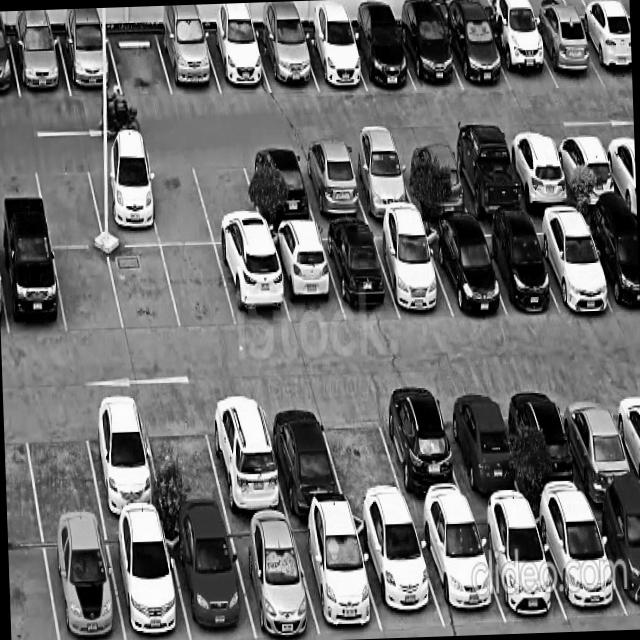car: (530, 502, 629, 627), (289, 514, 383, 640), (374, 391, 469, 512), (226, 519, 320, 640), (471, 508, 567, 623), (164, 519, 255, 640), (412, 510, 506, 627), (436, 388, 526, 508), (352, 514, 445, 630), (202, 394, 288, 517), (104, 521, 190, 640), (505, 386, 589, 505), (260, 398, 346, 514), (555, 385, 640, 501), (81, 401, 163, 520), (41, 523, 124, 640), (528, 213, 614, 311), (422, 223, 507, 318), (473, 221, 558, 315), (266, 227, 344, 326), (370, 225, 453, 318), (319, 225, 399, 320), (85, 156, 160, 246), (215, 244, 290, 327), (589, 497, 640, 619), (0, 244, 66, 337), (580, 213, 640, 315), (447, 140, 525, 217), (241, 149, 316, 226), (295, 147, 368, 222), (343, 146, 417, 218), (396, 143, 470, 215), (528, 20, 605, 89), (484, 21, 558, 92), (503, 136, 574, 209), (551, 134, 621, 205), (441, 21, 511, 90), (395, 21, 463, 92), (347, 26, 415, 91), (203, 30, 271, 94), (57, 32, 121, 97), (156, 31, 221, 95), (299, 30, 366, 91), (9, 34, 71, 98), (575, 18, 632, 87), (255, 31, 318, 92)
free: (318, 396, 408, 511), (141, 401, 227, 519), (21, 402, 102, 524), (190, 151, 265, 244), (141, 155, 213, 245), (161, 245, 236, 330), (33, 157, 104, 246), (107, 246, 180, 332), (53, 248, 123, 334), (107, 31, 172, 95)
